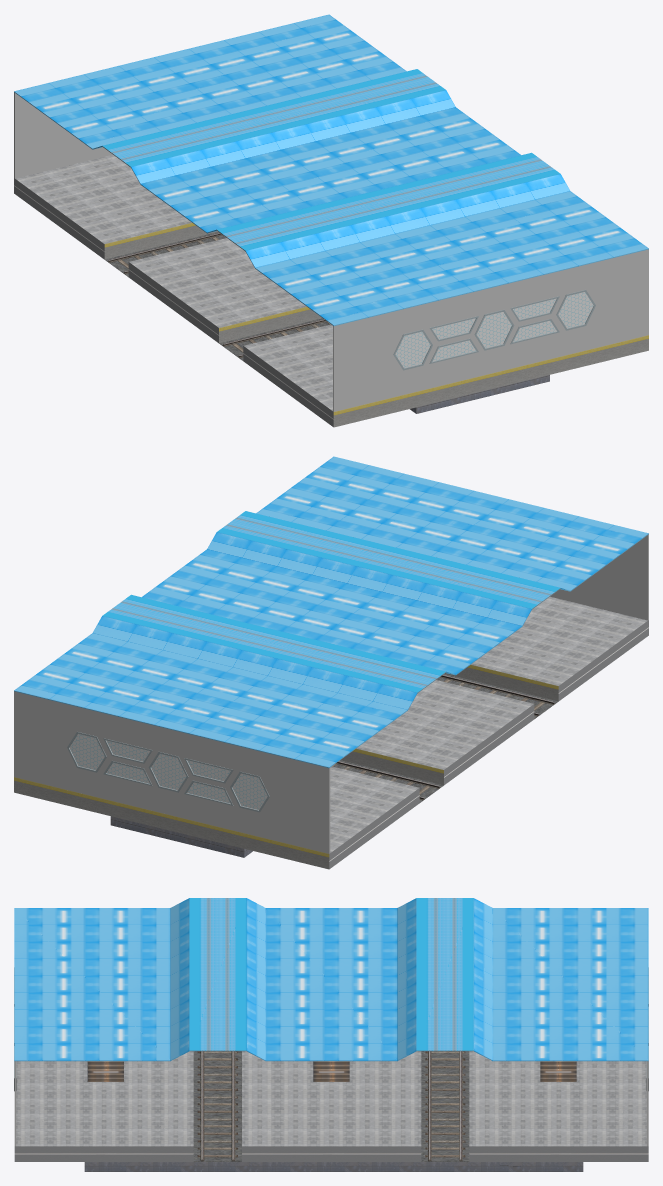
Rendered from Station04C.FBX.
3 renders of one model, top to bottom at view 1: azimuth 30°, elevation 25°; view 2: azimuth 150°, elevation 25°; view 3: azimuth 270°, elevation 25°, orthographic.
Parts seen in each view (by area): view 1: Station04Roof02, Station04FloorsC, Station04Wall01C, Station04Roof01, Station04Roof03, Station04WallWindGlassC, Station04WallWindC, Station04FloorWayC, Station04RailwayC, Station04Under; view 2: Station04Roof02, Station04FloorsC, Station04Wall01C, Station04Roof01, Station04Roof03, Station04WallWindGlassC, Station04WallWindC, Station04FloorWayC, Station04Under, Station04RailwayC; view 3: Station04Roof02, Station04FloorsC, Station04Roof01, Station04Roof03, Station04FloorWayC, Station04Under, Station04RailwayC, Station04Under_Stair, Station04Wall01C.
Boxes of the visible parts, bbox=[...] form: Station04Roof02: bbox=[14, 14, 648, 325]; Station04FloorsC: bbox=[14, 155, 648, 427]; Station04Wall01C: bbox=[14, 92, 648, 411]; Station04Roof01: bbox=[102, 69, 560, 251]; Station04Roof03: bbox=[92, 90, 569, 268]; Station04WallWindGlassC: bbox=[395, 292, 593, 367]; Station04WallWindC: bbox=[393, 290, 595, 370]; Station04FloorWayC: bbox=[104, 231, 329, 360]; Station04RailwayC: bbox=[108, 233, 330, 357]; Station04Under: bbox=[410, 375, 549, 413]; Station04Roof02: bbox=[14, 456, 648, 768]; Station04FloorsC: bbox=[14, 596, 648, 869]; Station04Wall01C: bbox=[14, 534, 648, 853]; Station04Roof01: bbox=[102, 511, 560, 693]; Station04Roof03: bbox=[93, 532, 570, 710]; Station04WallWindGlassC: bbox=[69, 734, 267, 809]; Station04WallWindC: bbox=[67, 732, 269, 812]; Station04FloorWayC: bbox=[333, 674, 558, 802]; Station04Under: bbox=[110, 816, 252, 857]; Station04RailwayC: bbox=[332, 675, 554, 800]; Station04Roof02: bbox=[14, 908, 648, 1061]; Station04FloorsC: bbox=[14, 1051, 648, 1161]; Station04Roof01: bbox=[189, 898, 473, 1051]; Station04Roof03: bbox=[170, 898, 492, 1061]; Station04FloorWayC: bbox=[193, 1051, 469, 1161]; Station04Under: bbox=[84, 1162, 583, 1171]; Station04RailwayC: bbox=[197, 1051, 465, 1161]; Station04Under_Stair: bbox=[87, 1061, 576, 1081]; Station04Wall01C: bbox=[14, 1061, 648, 1146].
Bounding box in the file's own units: 1417 × 659 × 2494.
